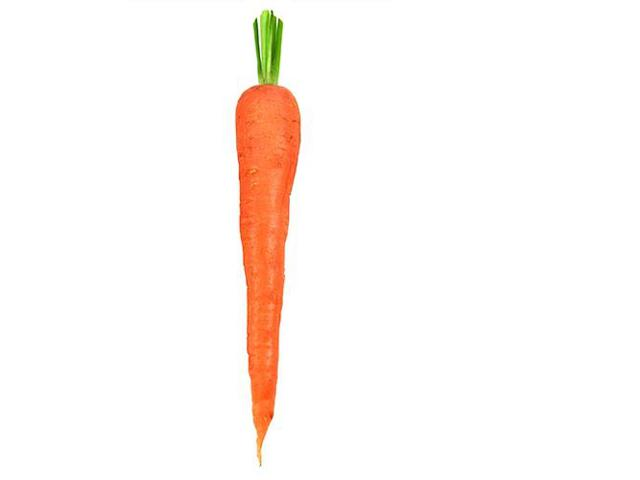carrot: (202, 56, 356, 468)
